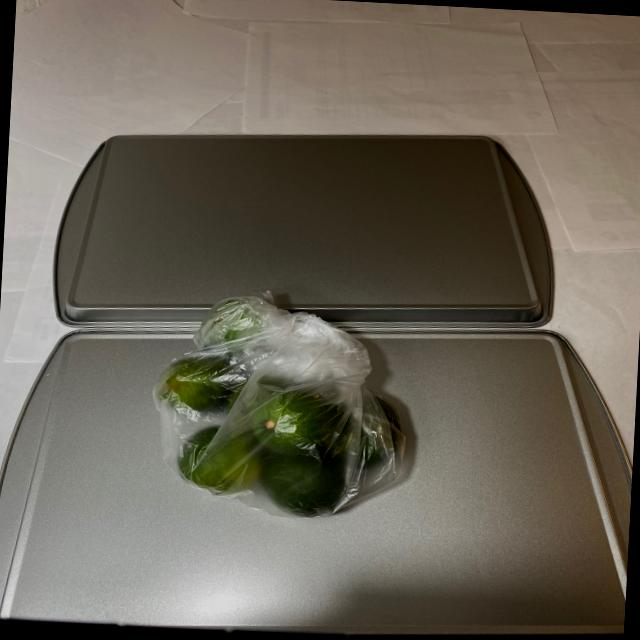lemon: (140, 300, 433, 519)
